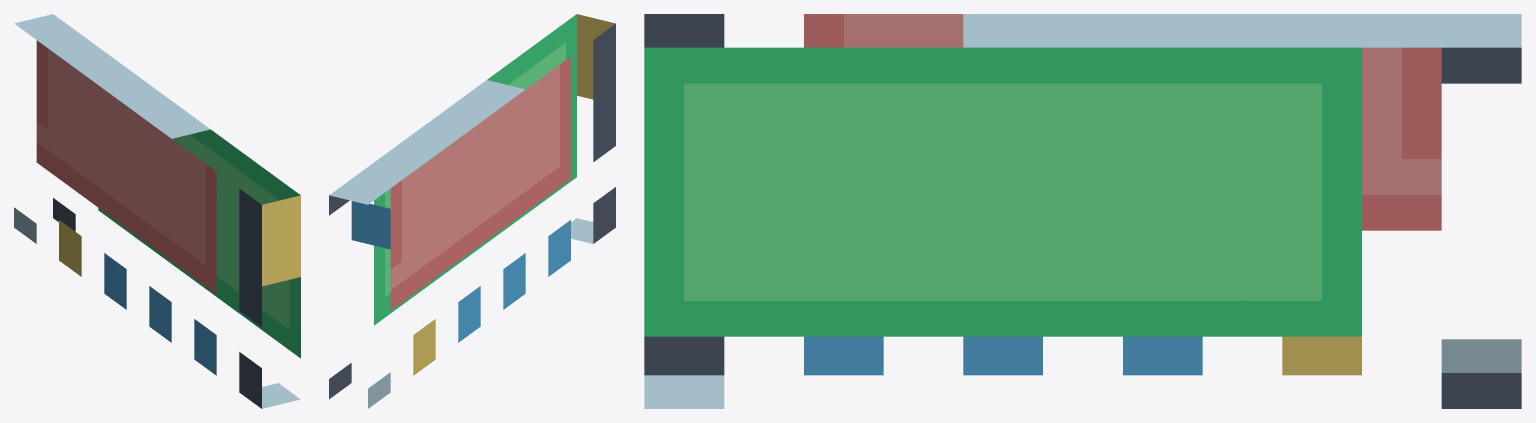
Rendered from sign_legs.obj.
3 renders of one model, left to right at view 1: azimuth 30°, elevation 25°; view 2: azimuth 150°, elevation 25°; view 3: azimuth 270°, elevation 25°, orthographic. The views are drawn at different scales.
Parts seen in each view (by area): view 1: body; view 2: body; view 3: body.
Part boxes in pixels (x1=…): body: x1=14, y1=14, x2=300, y2=408; body: x1=329, y1=14, x2=615, y2=408; body: x1=644, y1=14, x2=1521, y2=408.
Size of the model in its own units: 0.0625 by 0.3125 by 0.6875.
1 material, 1 textured.
